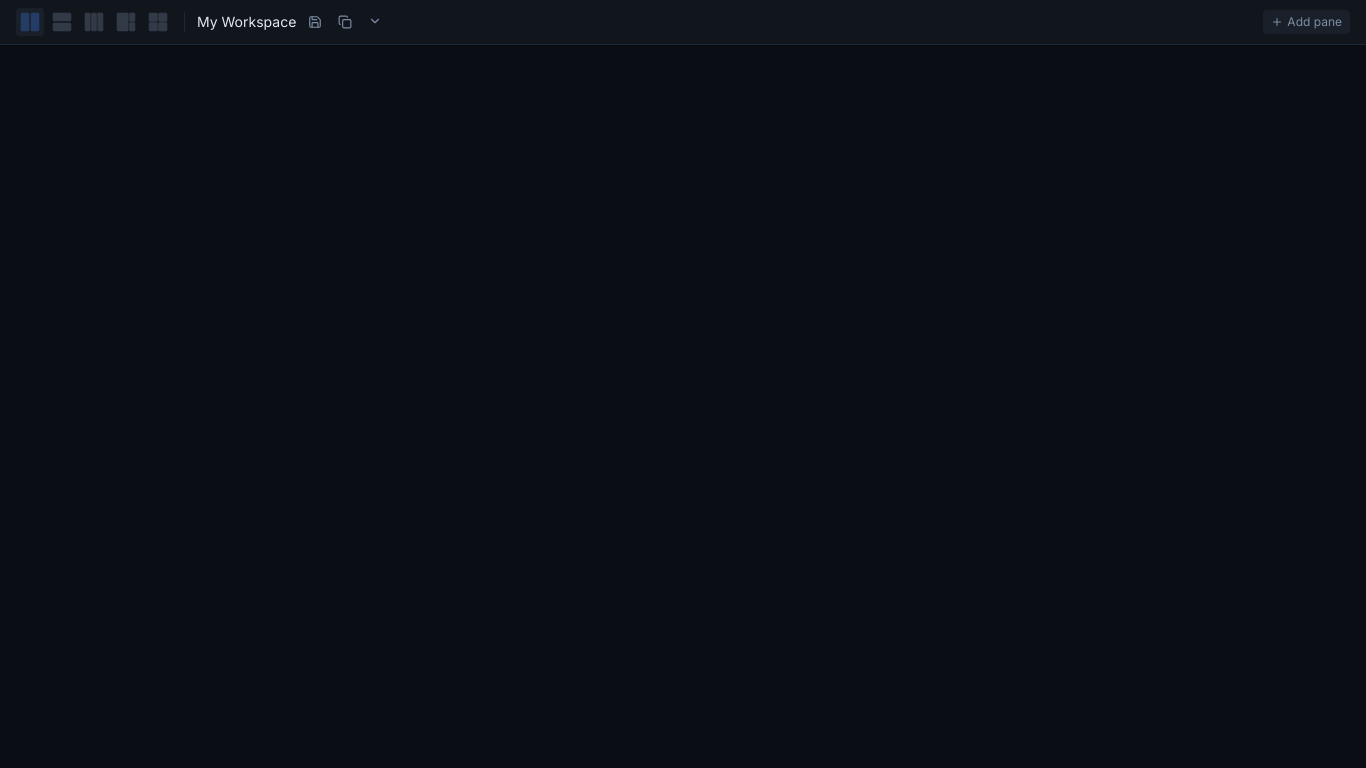
Test: MultiviewToolbar › opens save-as modal when Save As button is clicked
Click the button titled "Save as new workspace": [345, 22] box [334,11,356,33]
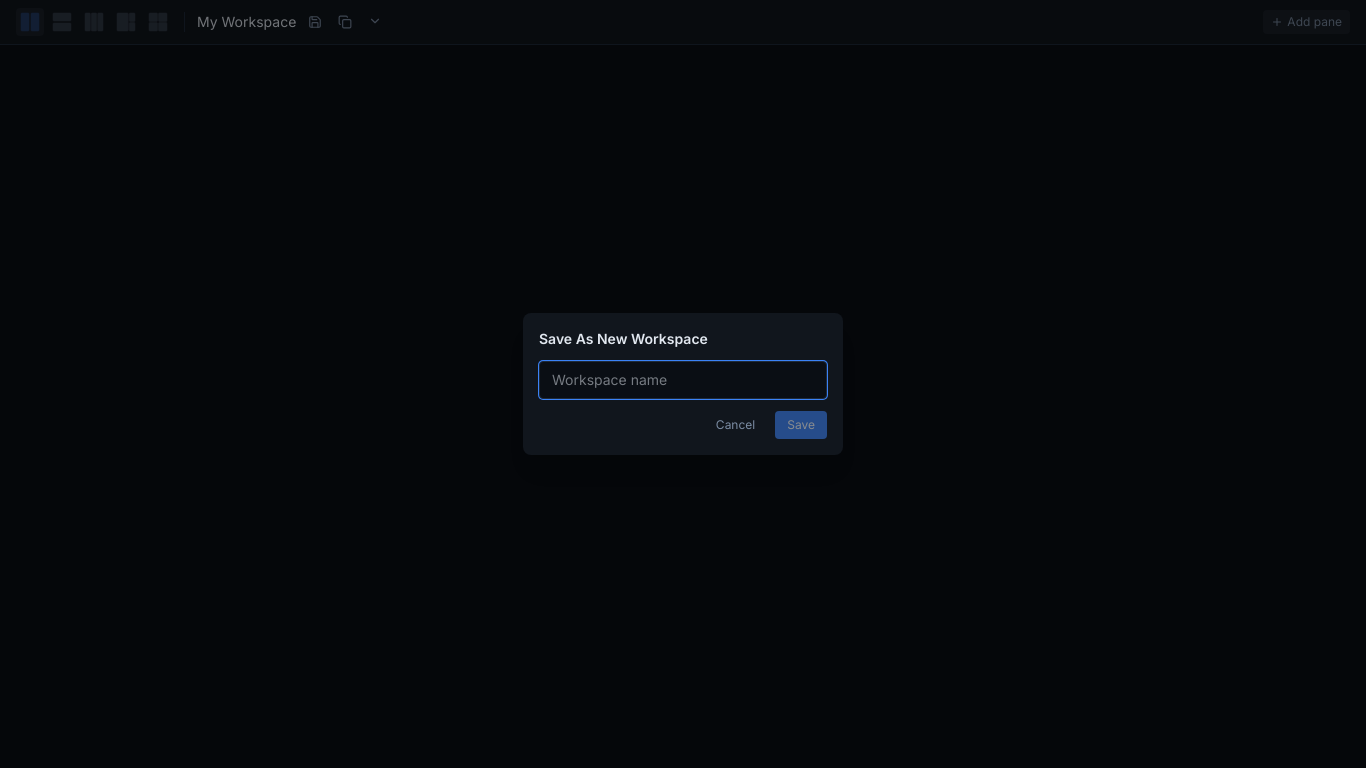
Check: the heading "Save As New Workspace" is shown, box [539,330,708,347]
